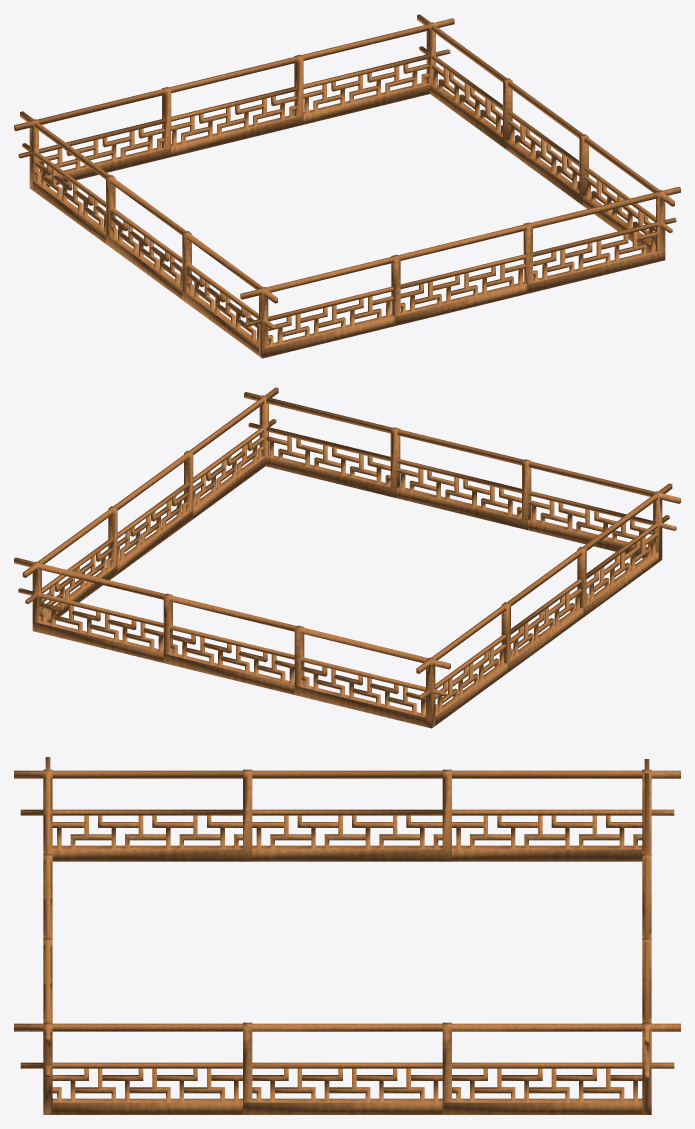
File: JapaneseTowerRailings.fbx
The picture shows the model from 3 angles, top to bottom: view 1: azimuth 30°, elevation 25°; view 2: azimuth 150°, elevation 25°; view 3: azimuth 270°, elevation 25°; orthographic projection. The views are drawn at different scales.
Parts seen in each view (by area): view 1: default; view 2: default; view 3: default.
Part boxes in pixels (left/top/right/bottom): default: left=14, top=14, right=680, bottom=358; default: left=14, top=387, right=680, bottom=728; default: left=14, top=757, right=680, bottom=1114.
Bounding box in the file's own units: 7350 × 1075 × 7350.
